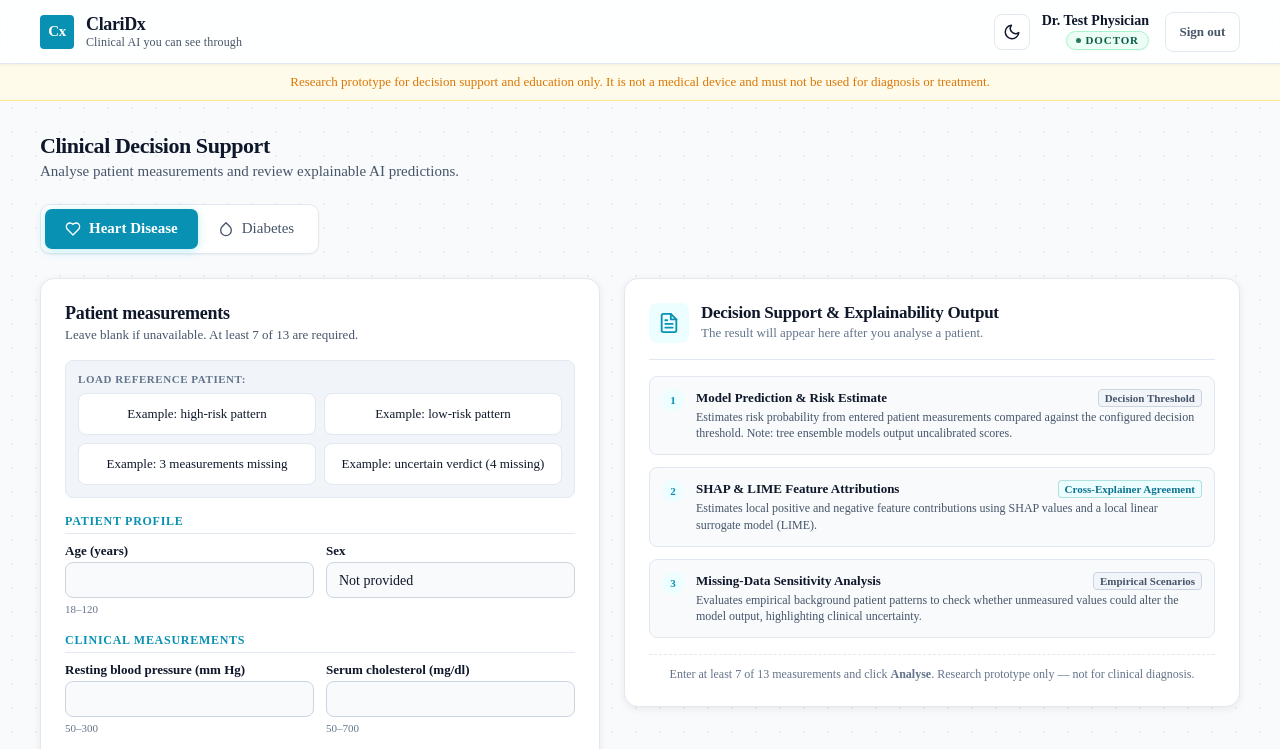
Test: Authentication and RBAC Integration › attaches bearer token to prediction requests
The image size is (1280, 749).
Step 1. Click the button "Example: high-risk pattern" → (197, 414), box [78,393,316,435]
(page scrolled)
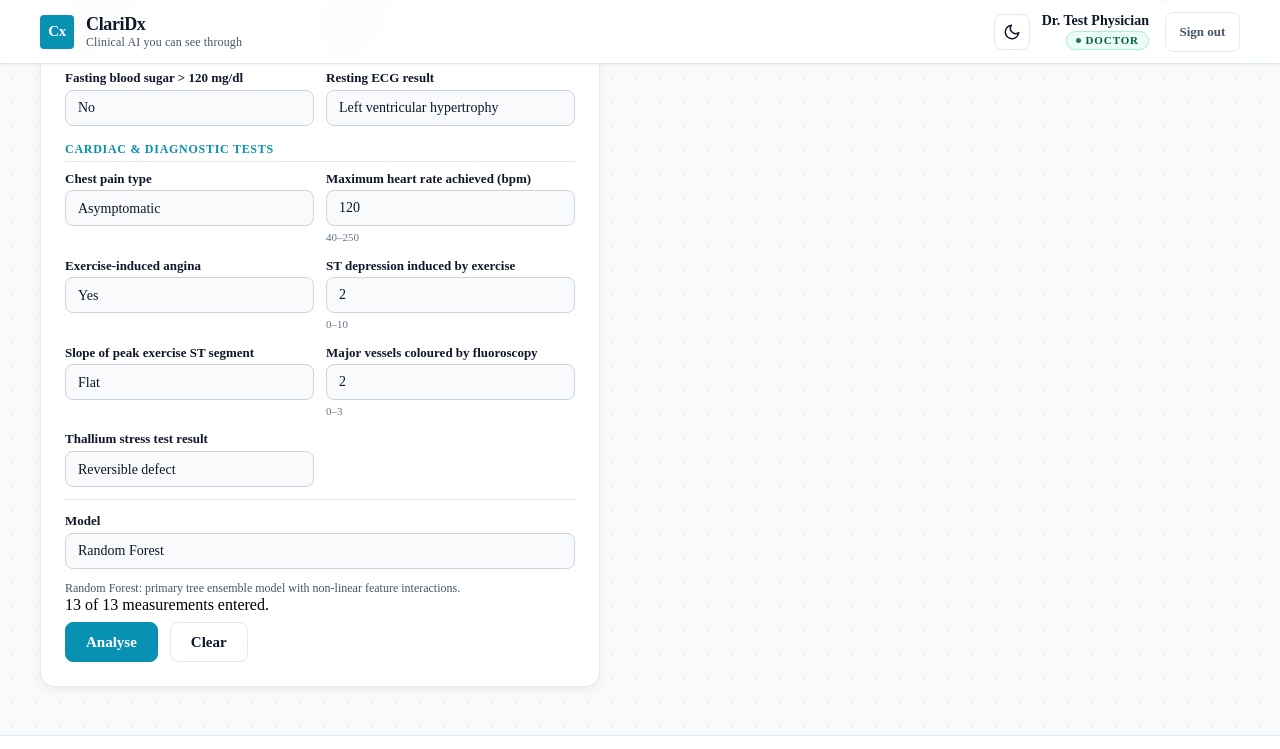
Step 2. Click the button "Analyse" → (111, 642), box [65,622,158,662]
(page scrolled)
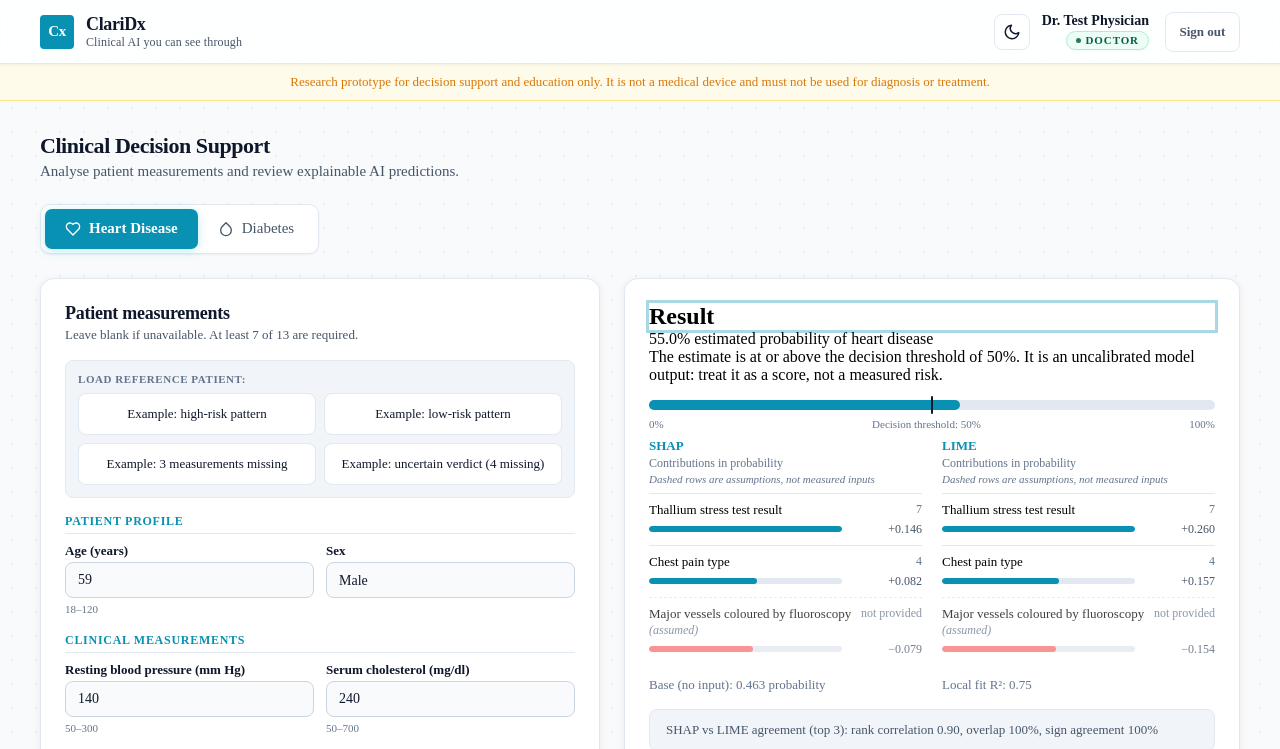
expect the text "55.0%" is shown: met, box [649,330,690,346]
